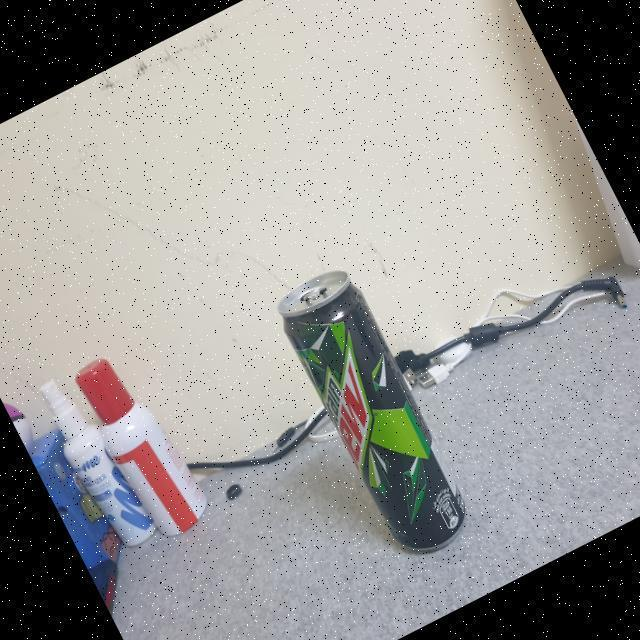can: (257, 244, 498, 583)
